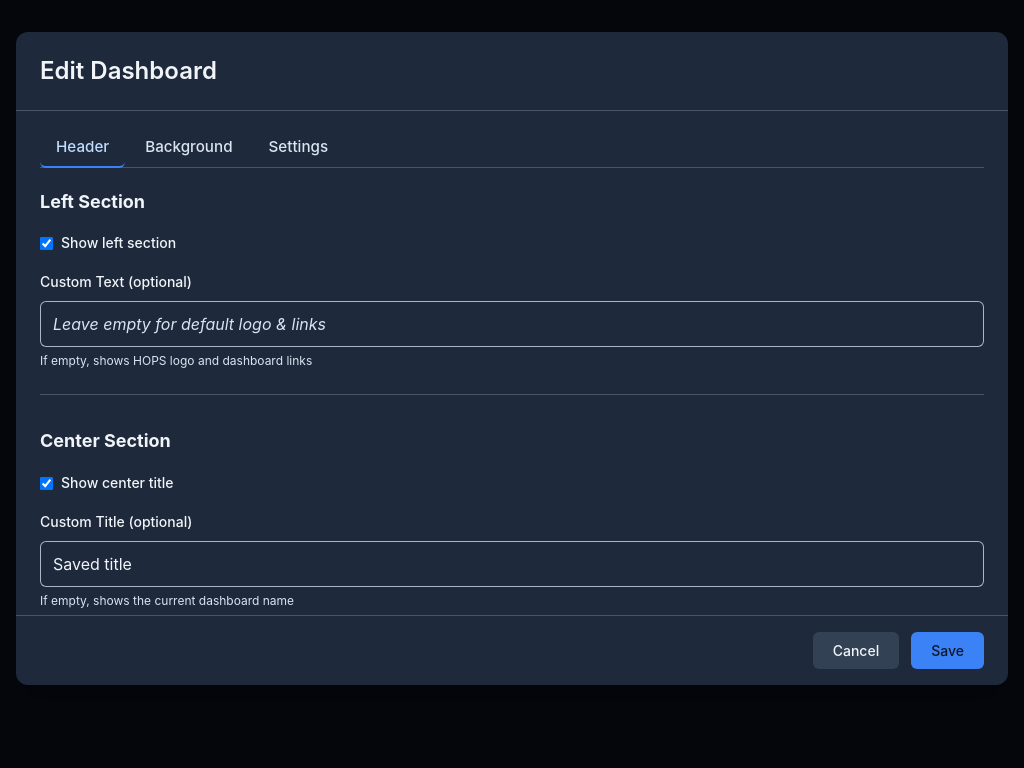
DashboardEditModal Settings section › rejects an emptied number field inline and disables Save
Click the tab "Settings" at [298, 148], box top-left (252, 127), bottom-right (344, 168)
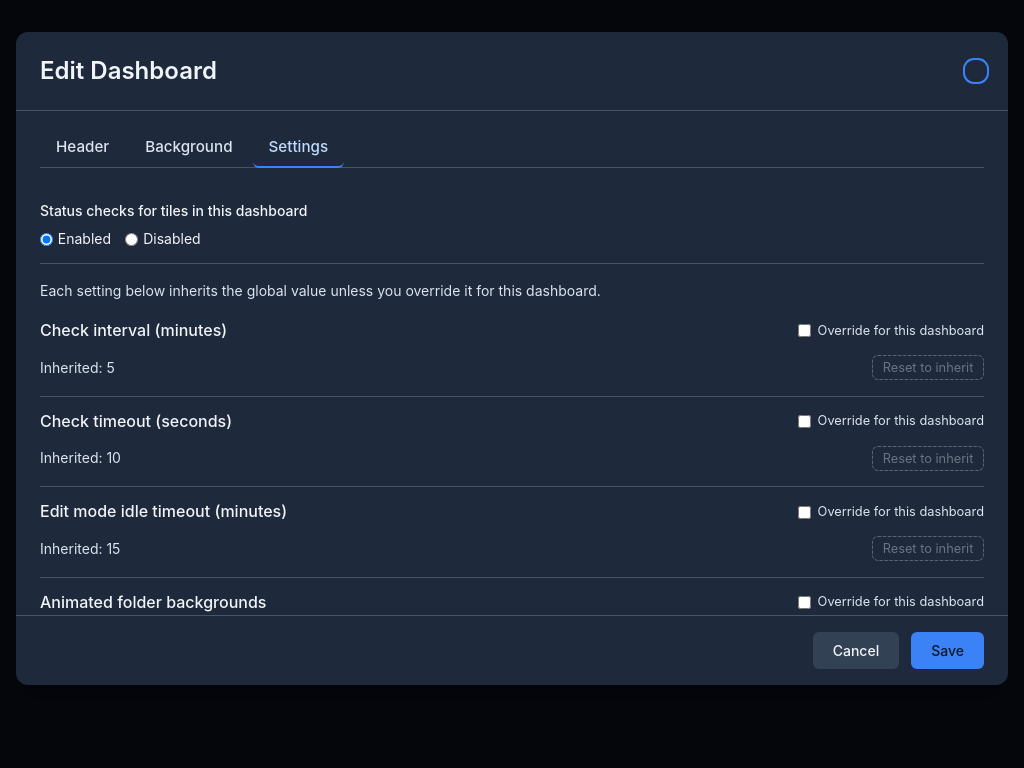
Check: the text "Check timeout (seconds)" is shown, box top-left (40, 409), bottom-right (232, 434)
Click the checkbox named "Override for this dashboard: Edit mode idle timeout (minutes)" at [805, 512], box top-left (798, 506), bottom-right (811, 519)
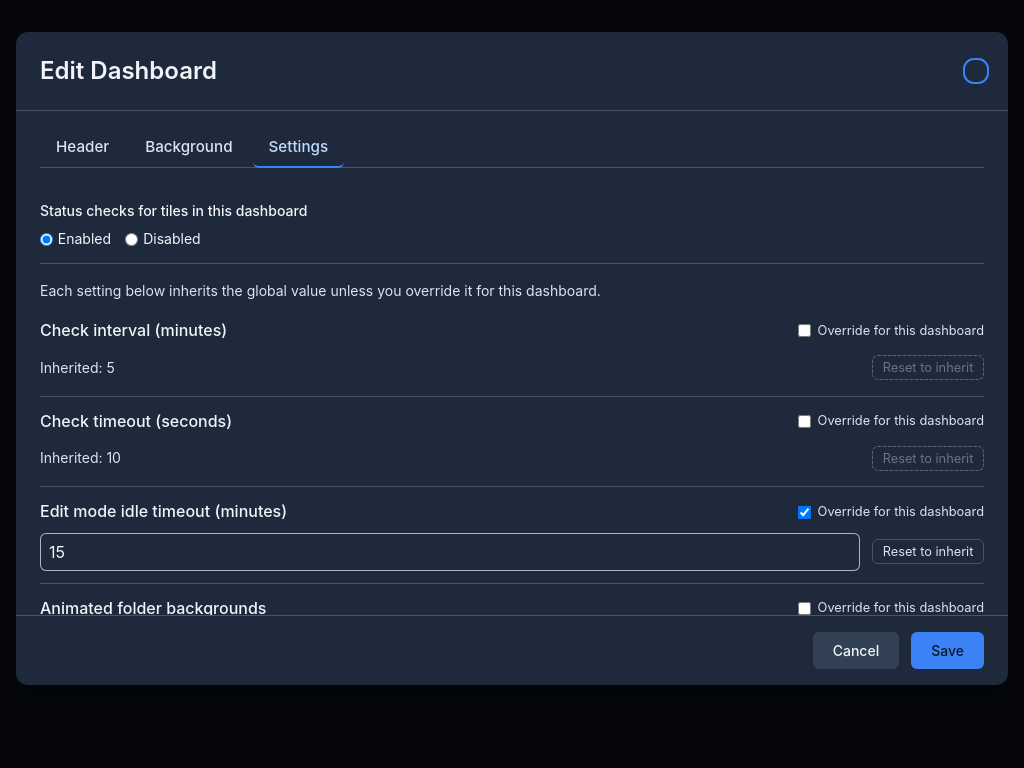
Clear the number field labelled "Edit mode idle timeout (minutes)" at [450, 552], box top-left (40, 533), bottom-right (860, 571)
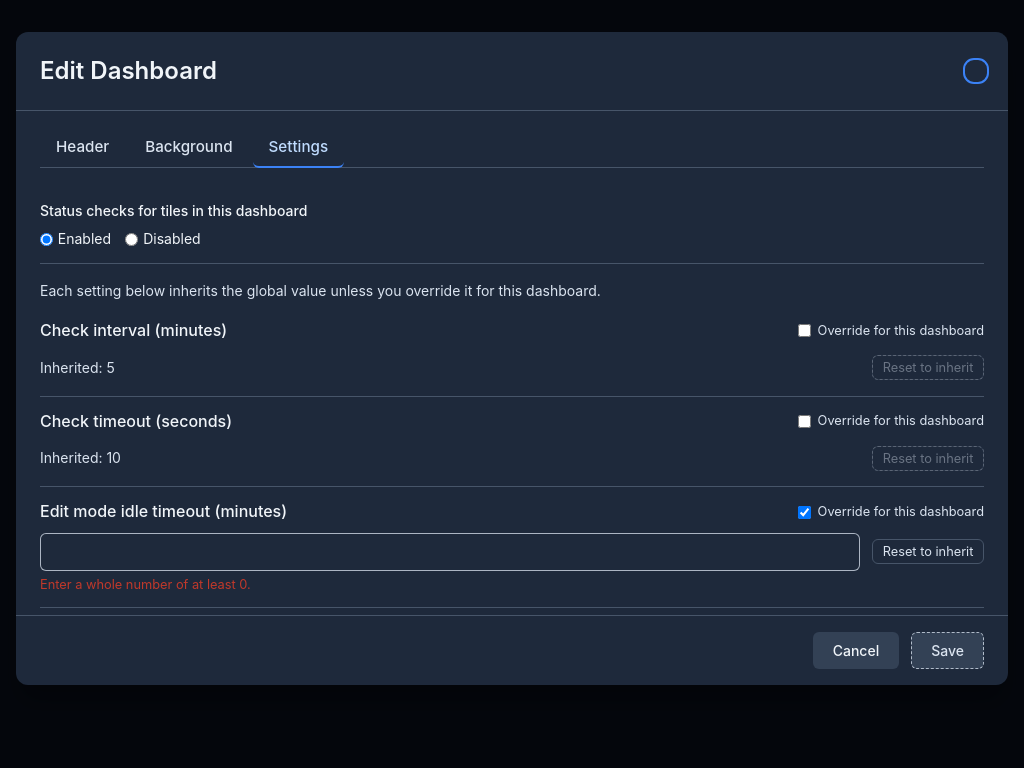
Check: the text "Enter a whole number of at least 0." is shown, box top-left (40, 577), bottom-right (251, 592)
Check: the button "Save" is disabled, box top-left (911, 632), bottom-right (984, 669)
